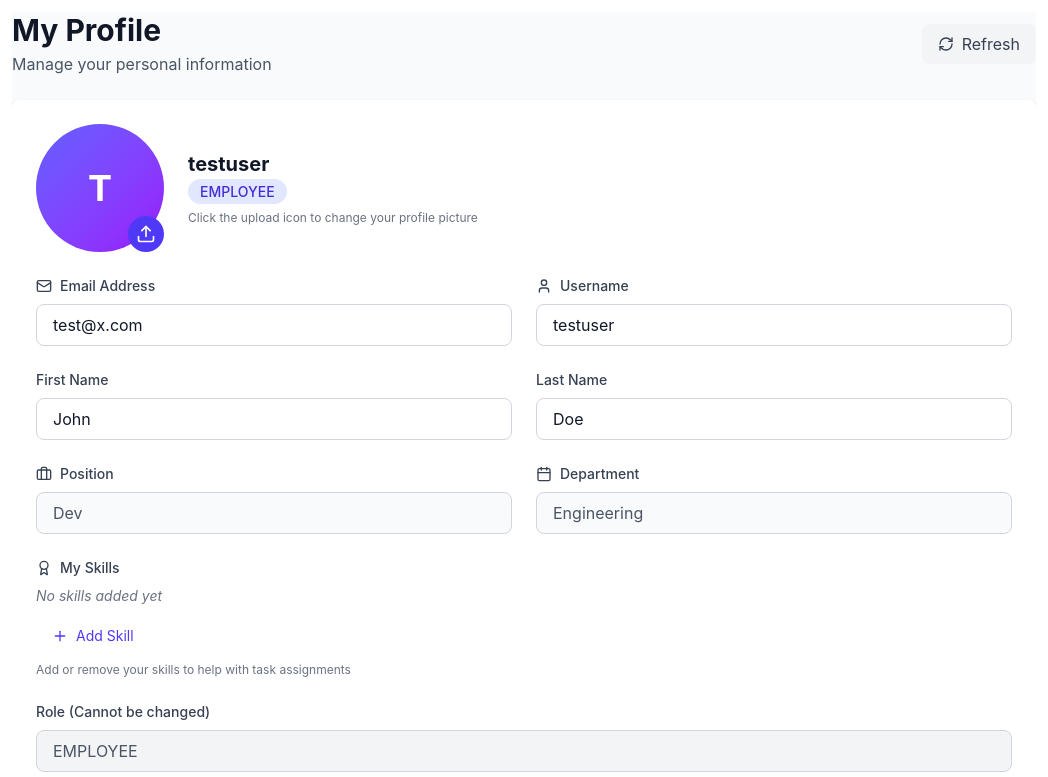
Scenario: ProfilePage coverage dedicated › shows warning when username is changed
Replace the text in the field showing "testuser" below "Username" with "newuser": (774, 325) [536,304,1012,346]
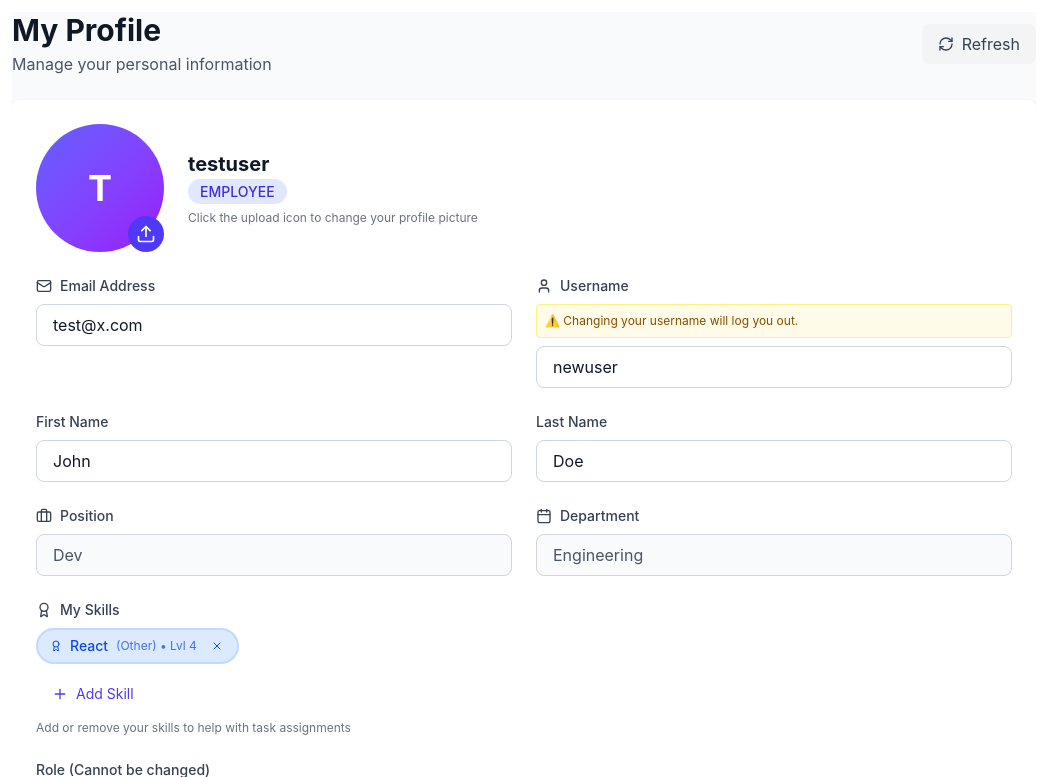
Expected: the text "⚠️ Changing your username will log you out." is shown, [536,304,1012,338]
